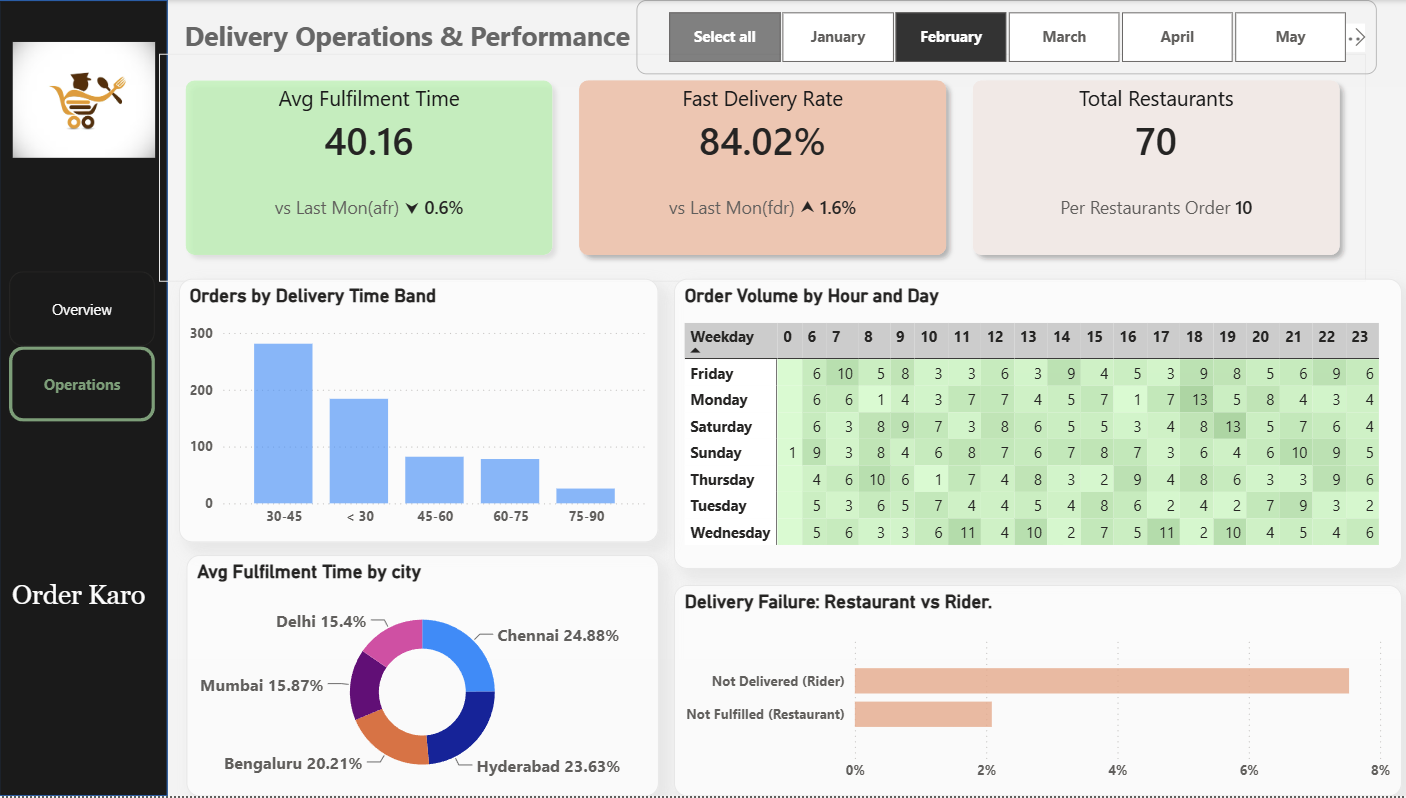

This screenshot's page, from the dashboard's own definition file:
{"tool":"powerbi","page":{"name":"Operations","canvas":[1280,720],"ordinal":1},"visuals":[{"type":"shape","box":[0,0,152.6,720.2],"z":0,"group":"g1"},{"type":"group","id":"g1","title":"Group 1","box":[0,0,152.6,720.2],"z":0},{"type":"image","box":[12.4,20.4,128.9,140.2],"z":1000},{"type":"cardVisual","fields":{"Data":["fooddelivery deliveries.Avg Fulfilment Time","fooddelivery deliveries.Fast Delivery Rate","fooddelivery restaurants.Total Restaurants"]},"box":[144.6,48.2,1092.6,206.2],"z":2000},{"type":"columnChart","title":"Orders by Delivery Time Band","fields":{"Category":["fooddelivery deliveries.Time Band"],"Y":["fooddelivery deliveries.Delivered Count"]},"box":[163.3,251.7,433.8,238.3],"z":3000},{"type":"donutChart","fields":{"Category":["fooddelivery restaurants.city"],"Y":["fooddelivery deliveries.Avg Fulfilment Time"]},"box":[169.6,502,427.4,218.2],"z":4000},{"type":"textbox","box":[6.7,519.5,137.9,48.2],"z":5000},{"type":"pivotTable","title":"Order Volume by Hour and Day","fields":{"Columns":["fooddelivery orders.Order Hour"],"Rows":["fooddelivery orders.DayOfWeekNumber"],"Values":["fooddelivery orders.countorderid"]},"box":[610.6,252.1,658,262.3],"z":7000},{"type":"textbox","box":[162.7,11.6,424.9,54.2],"z":7001},{"type":"slicer","fields":{"Values":["DateTable.Date.Variation.Date Hierarchy.Month"]},"box":[577.1,0,669.5,66.9],"z":7002},{"type":"barChart","title":"Delivery Failure: Restaurant vs Rider.","fields":{"Category":["Failure Stages.Stage"],"Y":["Failure Stages.Failure Rate by Stage"]},"box":[610.6,529.1,658,191.1],"z":7003},{"type":"pageNavigator","box":[9,245.4,132.3,137.9],"z":8000,"group":"g1"}]}

Visuals, with their boxes on the page's 1280x720 design canvas (x1, y1, x2, y2). These are canvas units, not pixel positions in the 1406x798 screenshot, which may show the page scaled, cropped or inside an application window:
shape: [0, 0, 153, 720]
"Group 1" group: [0, 0, 153, 720]
image: [12, 20, 141, 161]
cardVisual - fooddelivery deliveries.Avg Fulfilment Time x fooddelivery deliveries.Fast Delivery Rate: [145, 48, 1237, 254]
"Orders by Delivery Time Band" columnChart: [163, 252, 597, 490]
donutChart - fooddelivery restaurants.city x fooddelivery deliveries.Avg Fulfilment Time: [170, 502, 597, 720]
textbox: [7, 520, 145, 568]
"Order Volume by Hour and Day" pivotTable: [611, 252, 1269, 514]
textbox: [163, 12, 588, 66]
slicer - DateTable.Date.Variation.Date Hierarchy.Month: [577, 0, 1247, 67]
"Delivery Failure: Restaurant vs Rider." barChart: [611, 529, 1269, 720]
pageNavigator: [9, 245, 141, 383]
